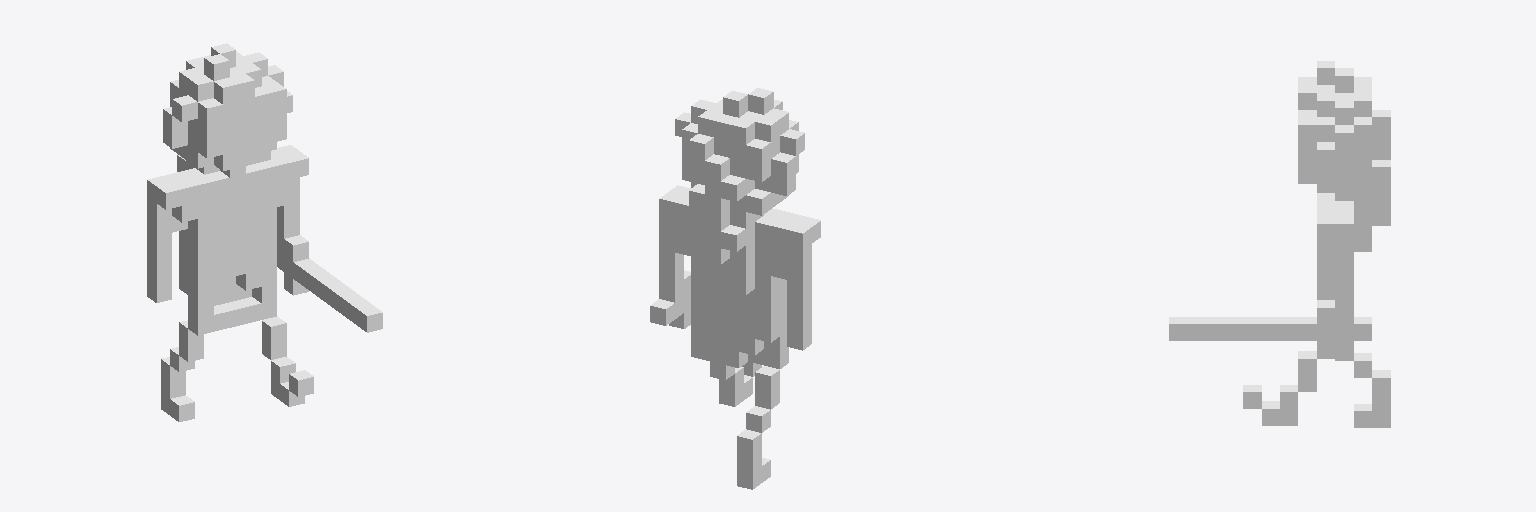
The model's file is SpinningGirlCharacter-1.obj.
3 views of the same model, side by side, from view 1: azimuth 30°, elevation 25°; view 2: azimuth 150°, elevation 25°; view 3: azimuth 270°, elevation 25° (orthographic).
Visible parts, largest first — view 1: SpinningGirlCharacter-1; view 2: SpinningGirlCharacter-1; view 3: SpinningGirlCharacter-1.
Part boxes in pixels (x1,y1,x2,y2): SpinningGirlCharacter-1: (147, 43, 382, 421); SpinningGirlCharacter-1: (650, 88, 820, 489); SpinningGirlCharacter-1: (1169, 61, 1390, 427).
Size of the model in its own units: 9 by 22 by 12.